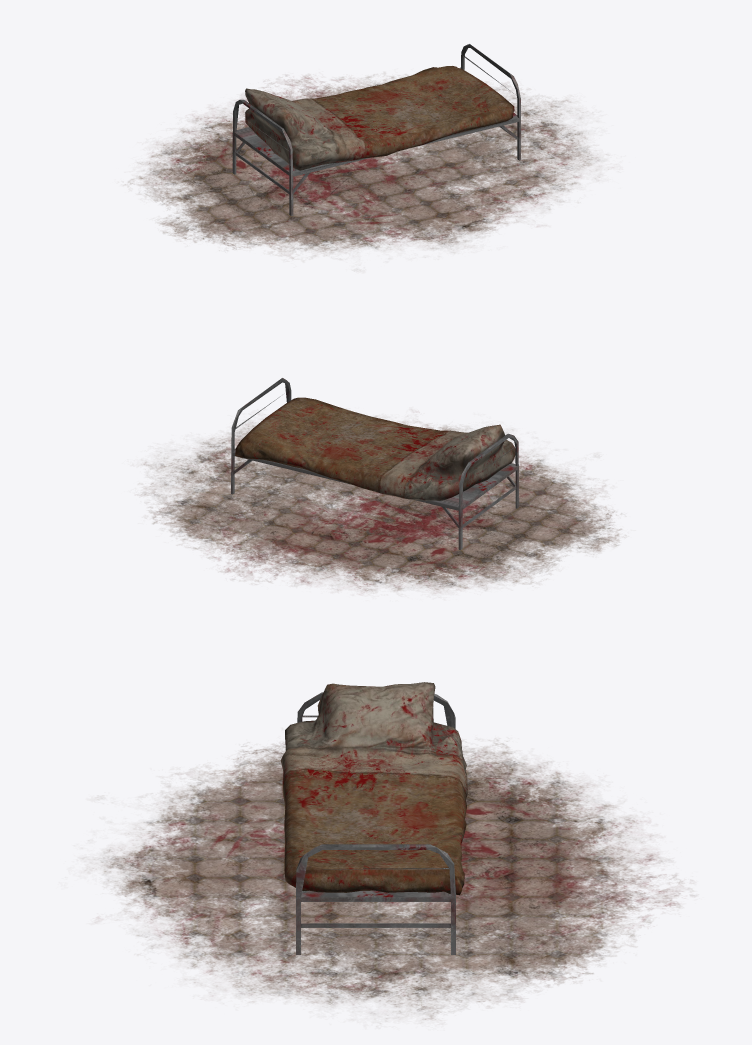
The model's file is bed-horror.glb.
3 views of the same model, one above another, from view 1: azimuth 30°, elevation 25°; view 2: azimuth 150°, elevation 25°; view 3: azimuth 270°, elevation 25° (orthographic). The views are drawn at different scales.
Visible parts, largest first — view 1: Floor, Bed_low, Frame_low; view 2: Floor, Bed_low, Frame_low; view 3: Floor, Bed_low, Frame_low.
Part boxes in pixels (x1=…): Floor: x1=125, y1=72, x2=606, y2=258; Bed_low: x1=245, y1=66, x2=514, y2=170; Frame_low: x1=232, y1=44, x2=520, y2=215; Floor: x1=140, y1=416, x2=625, y2=593; Bed_low: x1=235, y1=397, x2=515, y2=500; Frame_low: x1=231, y1=378, x2=519, y2=549; Floor: x1=85, y1=739, x2=694, y2=1019; Bed_low: x1=280, y1=682, x2=467, y2=895; Frame_low: x1=296, y1=692, x2=455, y2=954.
Size of the model in its own units: 4.44 by 0.8401 by 4.44.
Materials: 2 (2 with a texture image).
